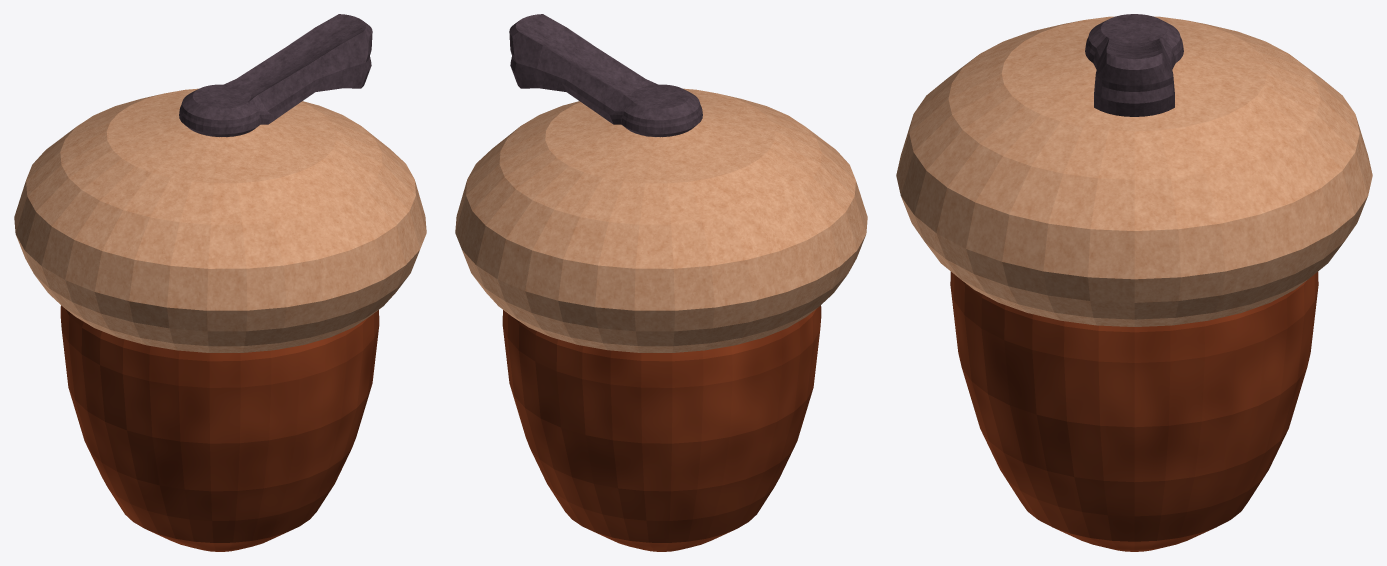
File: Acorn.glb
3 renders of one model, left to right at view 1: azimuth 30°, elevation 25°; view 2: azimuth 150°, elevation 25°; view 3: azimuth 270°, elevation 25°, orthographic. The views are drawn at different scales.
Parts seen in each view (by area): view 1: Nut.Applied; view 2: Nut.Applied; view 3: Nut.Applied.
Part boxes in pixels (x1,y1,x2,y2): Nut.Applied: [14, 14, 426, 551]; Nut.Applied: [455, 14, 867, 551]; Nut.Applied: [896, 14, 1372, 551].
Size of the model in its own units: 0.2836 by 0.3681 by 0.2837.
Materials: 1 (1 with a texture image).
